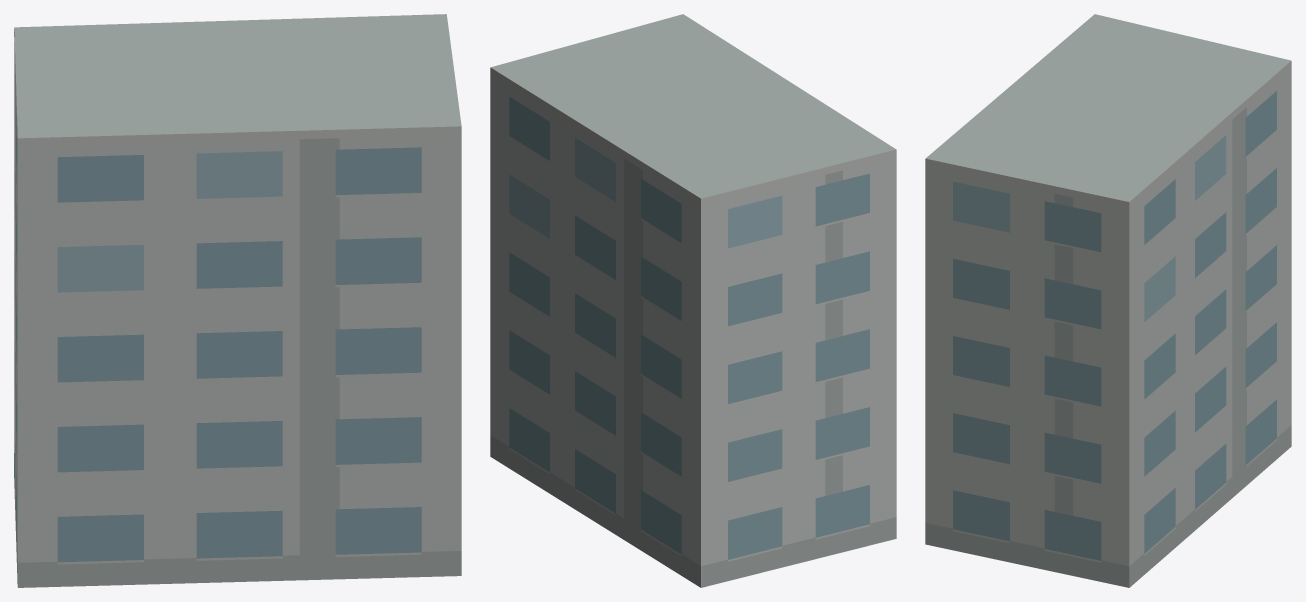
Rendered from survey-upis-32938419.glb.
3 renders of one model, left to right at view 1: azimuth 30°, elevation 25°; view 2: azimuth 150°, elevation 25°; view 3: azimuth 270°, elevation 25°, orthographic. The views are drawn at different scales.
Parts seen in each view (by area): view 1: survey-upis-32938419.tmp; view 2: survey-upis-32938419.tmp; view 3: survey-upis-32938419.tmp.
Boxes of the visible parts, <box> form: survey-upis-32938419.tmp: <box>14,14,461,587</box>; survey-upis-32938419.tmp: <box>490,14,896,587</box>; survey-upis-32938419.tmp: <box>925,14,1291,587</box>.
Bounding box in the file's own units: 13.39 × 12.8 × 11.02.
